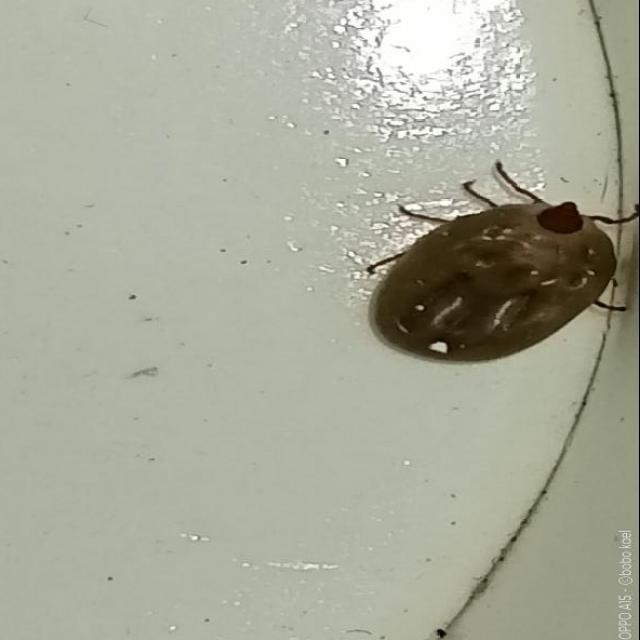Rhipicephalus Sanguineus-F-Fed: (367, 160, 640, 365)
